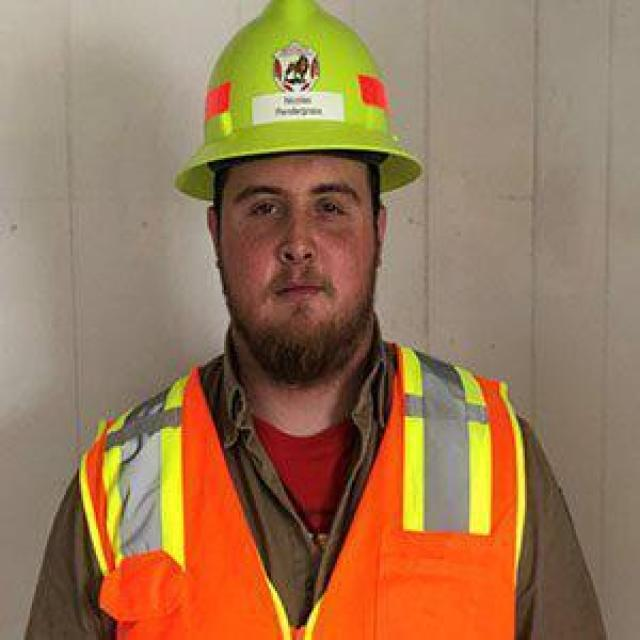helmet: (173, 0, 422, 201)
